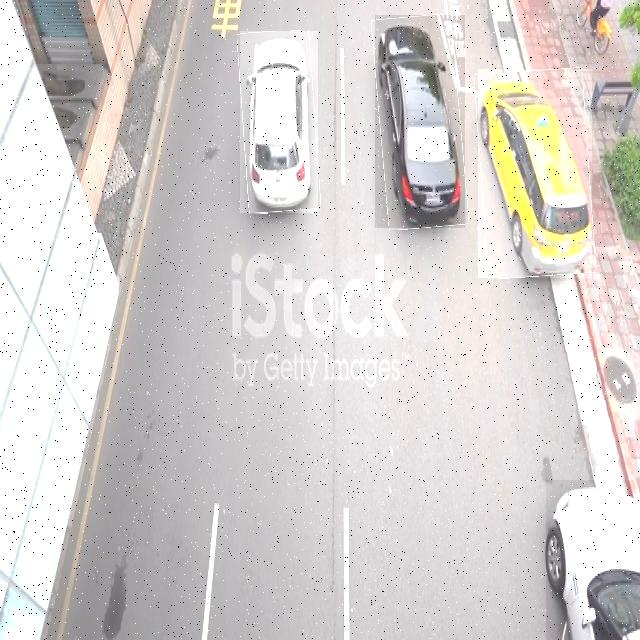Car: (478, 69, 592, 278), (375, 15, 465, 228), (546, 480, 640, 640), (240, 32, 318, 214)
